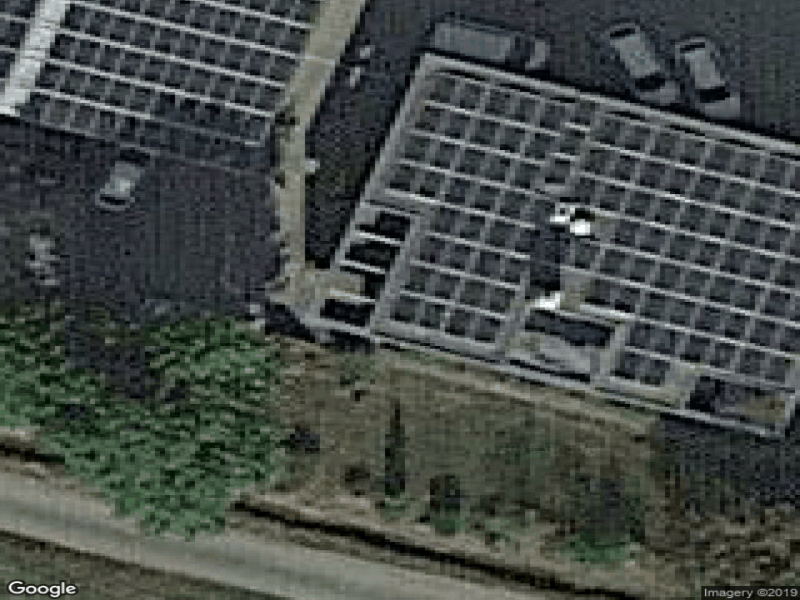pv: (396, 68, 800, 390), (1, 1, 327, 168)
